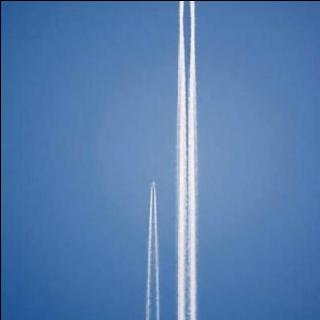Contrails: (140, 0, 207, 320)
